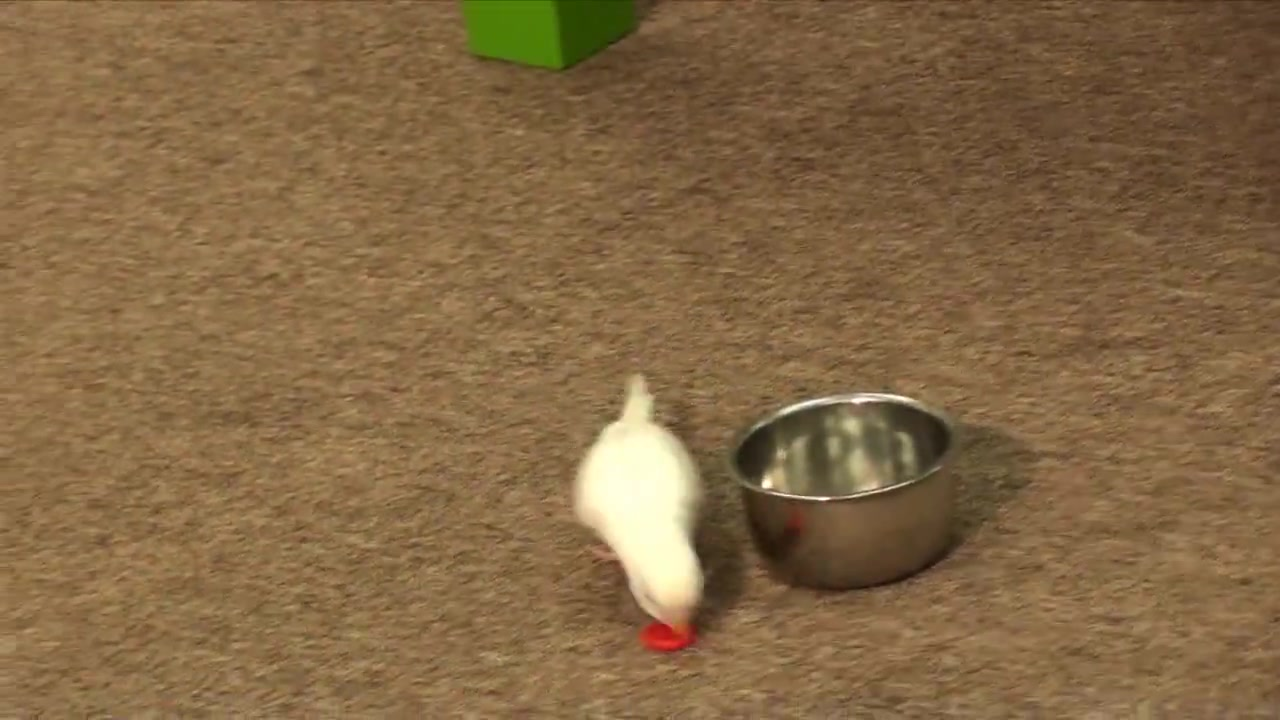bird: (576, 374, 706, 644)
